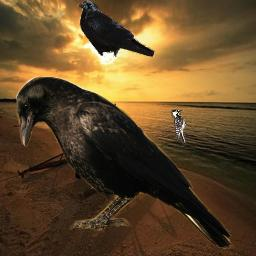Crow: (16, 76, 234, 249), (77, 0, 155, 57)
Woodpecker: (170, 109, 188, 147)
